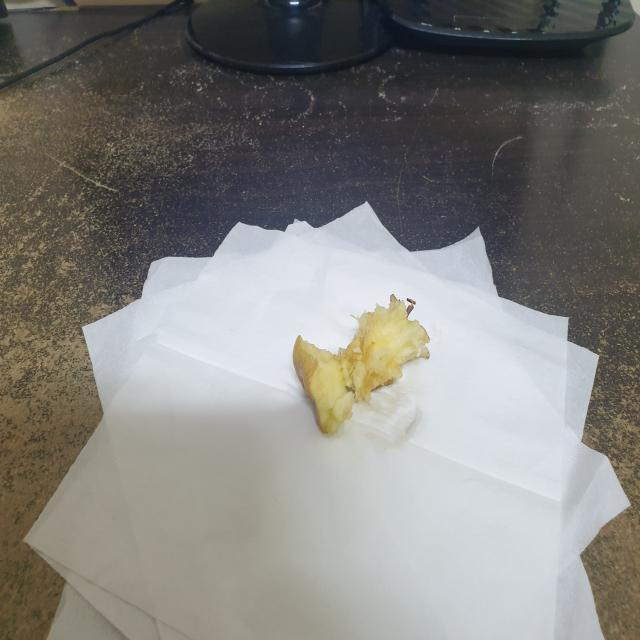apple: (287, 288, 438, 442)
